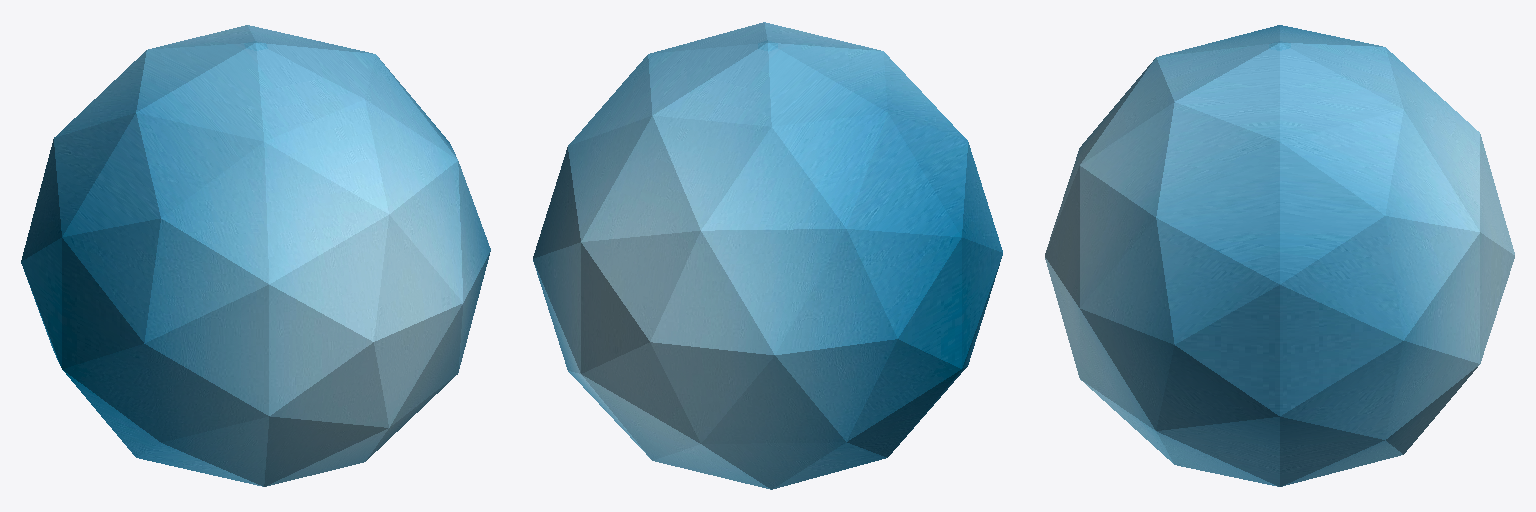
3 renders of one model, left to right at view 1: azimuth 30°, elevation 25°; view 2: azimuth 150°, elevation 25°; view 3: azimuth 270°, elevation 25°, orthographic.
Parts seen in each view (by area): view 1: GeoSphere001; view 2: GeoSphere001; view 3: GeoSphere001.
Part boxes in pixels (left/top/right/bottom): GeoSphere001: left=21, top=25, right=490, bottom=486; GeoSphere001: left=533, top=22, right=1002, bottom=489; GeoSphere001: left=1045, top=25, right=1514, bottom=486.
Size of the model in its own units: 4.71 by 4.95 by 4.95.
Materials: 1 (1 with a texture image).